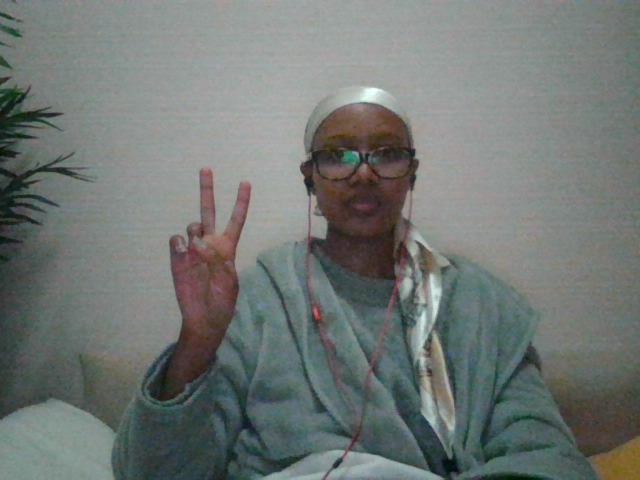peace: (165, 161, 266, 358)
